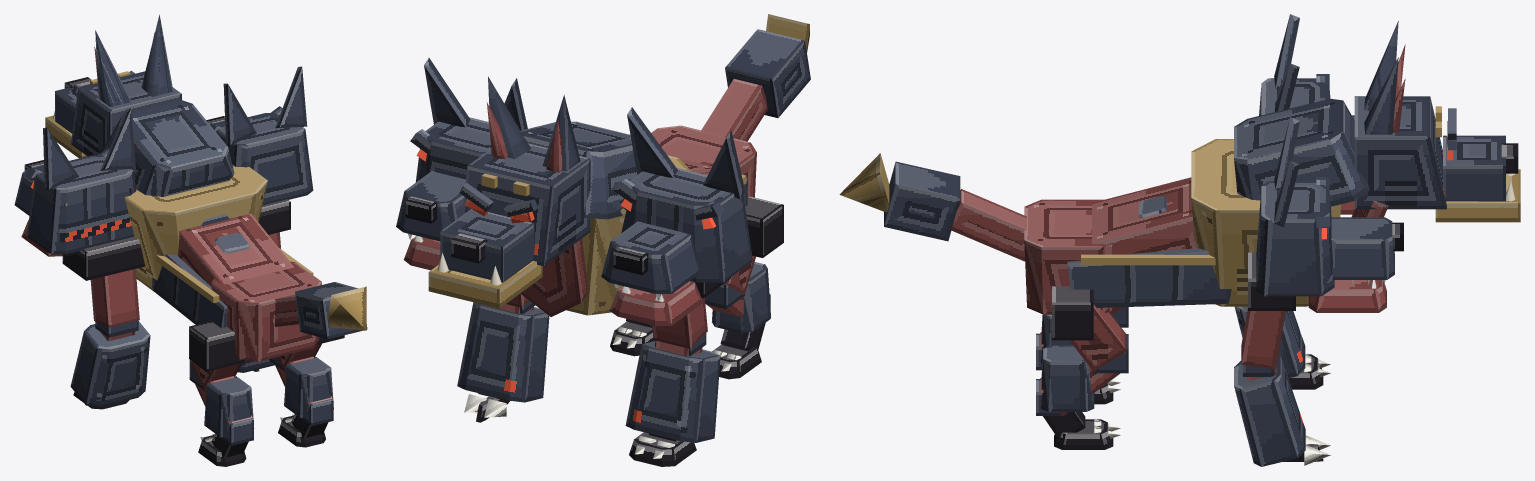
Rendered from bda-tyrant.glb.
3 views of the same model, side by side, from view 1: azimuth 30°, elevation 25°; view 2: azimuth 150°, elevation 25°; view 3: azimuth 270°, elevation 25° (orthographic). The views are drawn at different scales.
Visible parts, largest first — view 1: tyrant-22, object 20, object 2, object 23, object 29, object 5, object 11, object 21; view 2: tyrant-22, object 20, object 21, object 2, object 3, object 35, object 29, object 11, object 23, object 17, object 22, object 4 (+1 smaller); view 3: tyrant-22, object 2, object 3, object 17, object 20, object 23, object 11, object 5.
Part boxes in pixels (x1,y1,x2,y2): tyrant-22: (45, 14, 367, 466); object 20: (26, 155, 136, 254); object 2: (216, 113, 313, 205); object 23: (43, 127, 78, 189); object 29: (100, 108, 135, 170); object 5: (223, 83, 256, 145); object 11: (275, 66, 307, 128); object 21: (14, 165, 43, 215); tyrant-22: (428, 14, 810, 466); object 20: (621, 168, 752, 282); object 21: (601, 221, 699, 293); object 2: (415, 117, 491, 182); object 3: (396, 171, 465, 241); object 35: (609, 281, 703, 325); object 29: (627, 107, 677, 177); object 11: (424, 58, 470, 127); object 23: (703, 130, 745, 198); object 17: (403, 236, 440, 270); object 22: (613, 246, 648, 275); object 4: (405, 196, 437, 223); tyrant-22: (839, 20, 1520, 466); object 2: (1256, 181, 1334, 296); object 3: (1331, 217, 1394, 279); object 17: (1308, 280, 1386, 312); object 20: (1259, 78, 1330, 115); object 23: (1274, 14, 1299, 89); object 11: (1274, 161, 1299, 227); object 5: (1274, 117, 1299, 190).
Bounding box in the file's own units: 1.47 × 1.75 × 2.83.
Materials: 111 (110 with a texture image).
